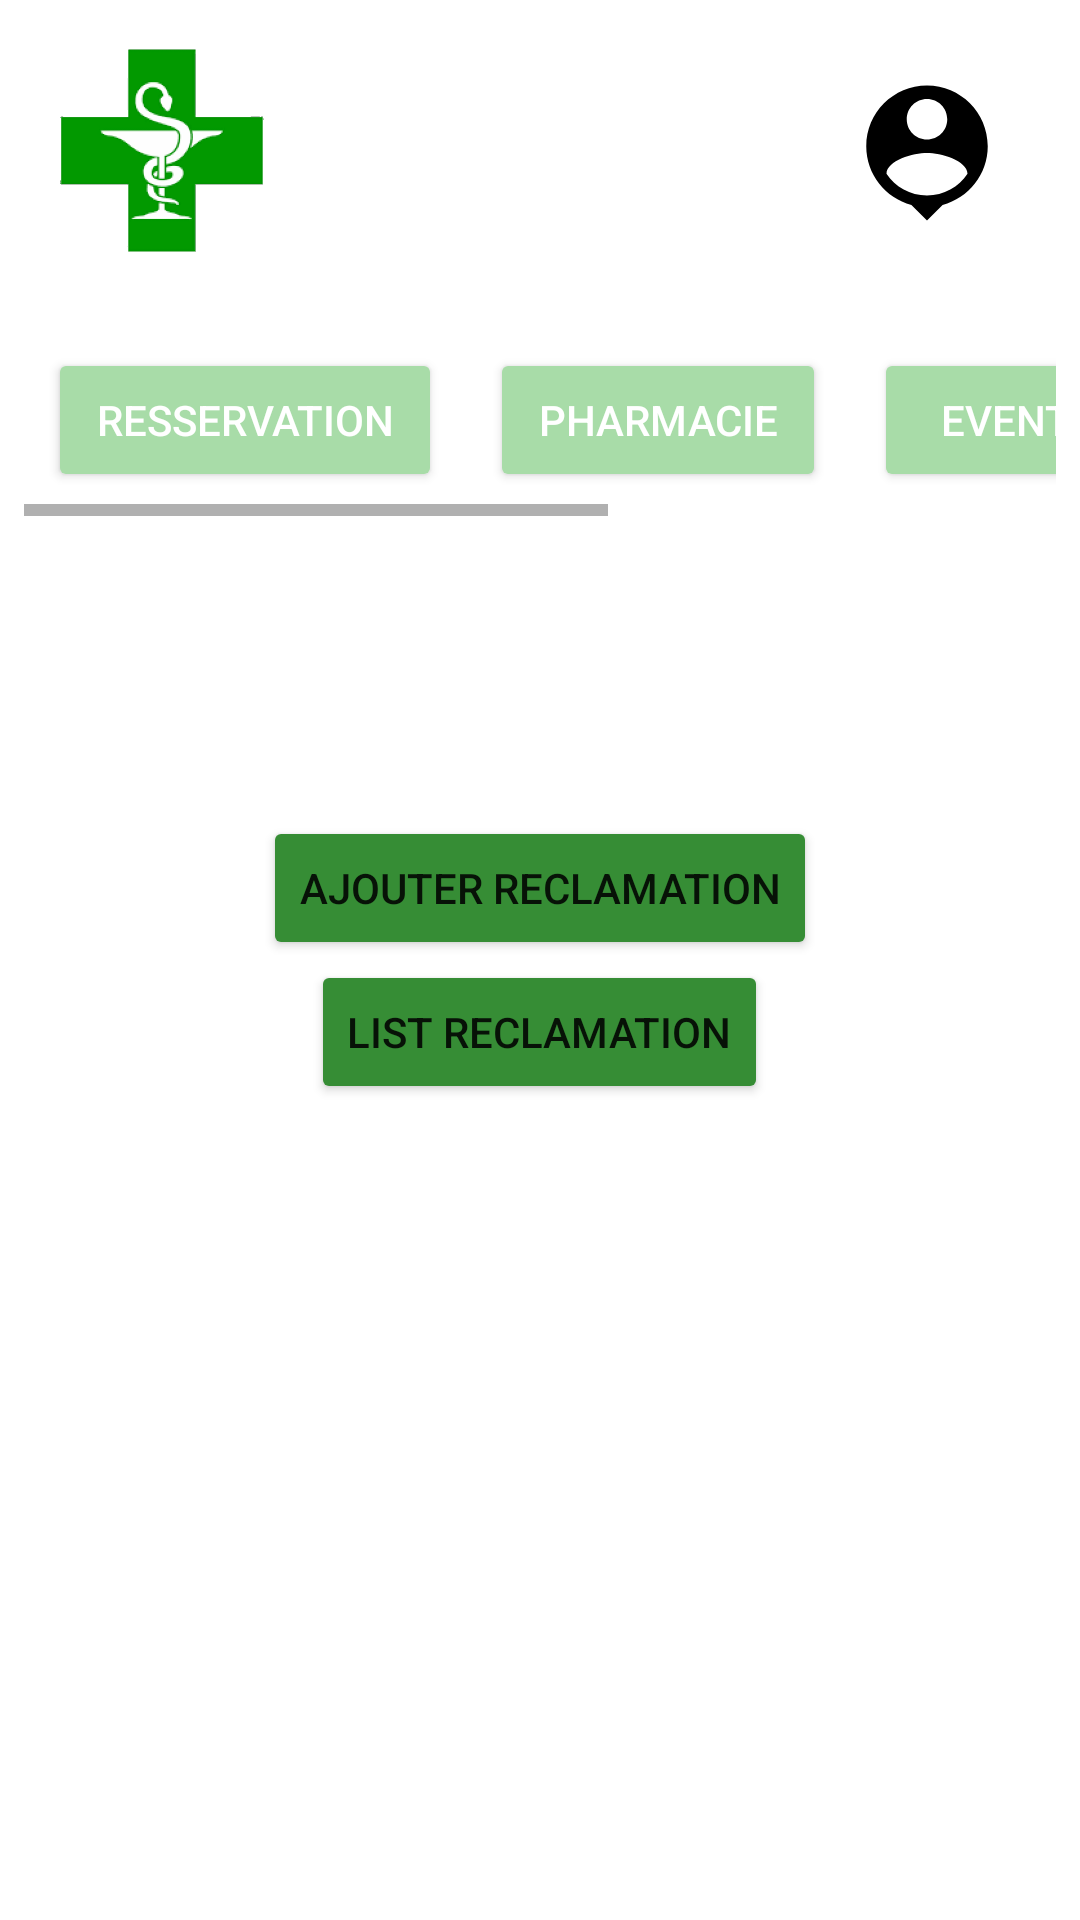

Icon click points for this 1080px x 1920px phone screenshot, format (x,y):
profile: (927,153)
